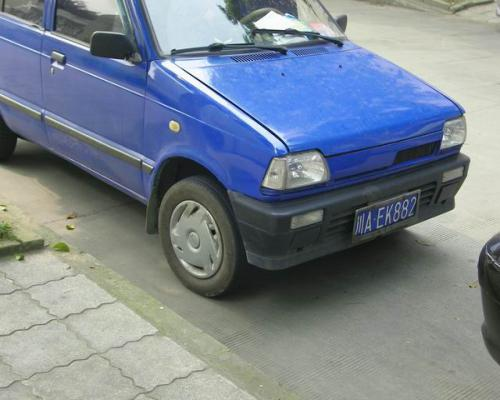Carplate: (350, 189, 420, 235)
